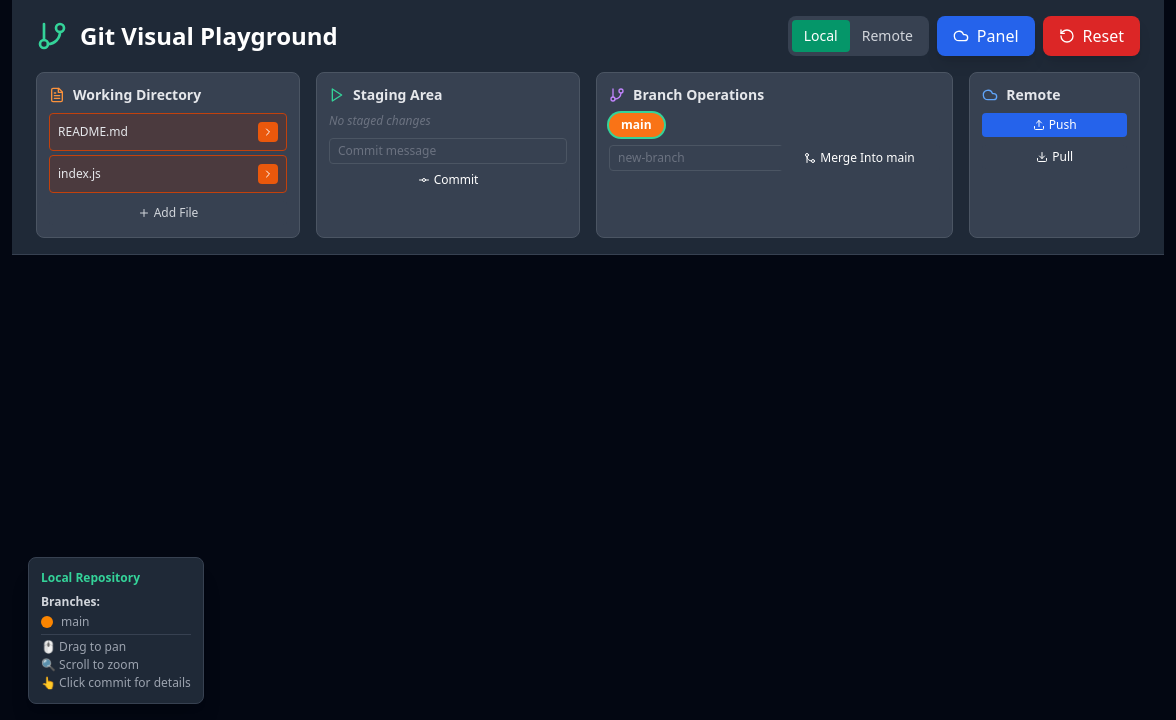
Test case: Git Visual Playground › Reset Functionality › T11.1: Reset clears all commits except initial
Note: Make a commit first
Click the button titled "Git Add" next to "README.md": (268,132) [258, 122, 278, 142]
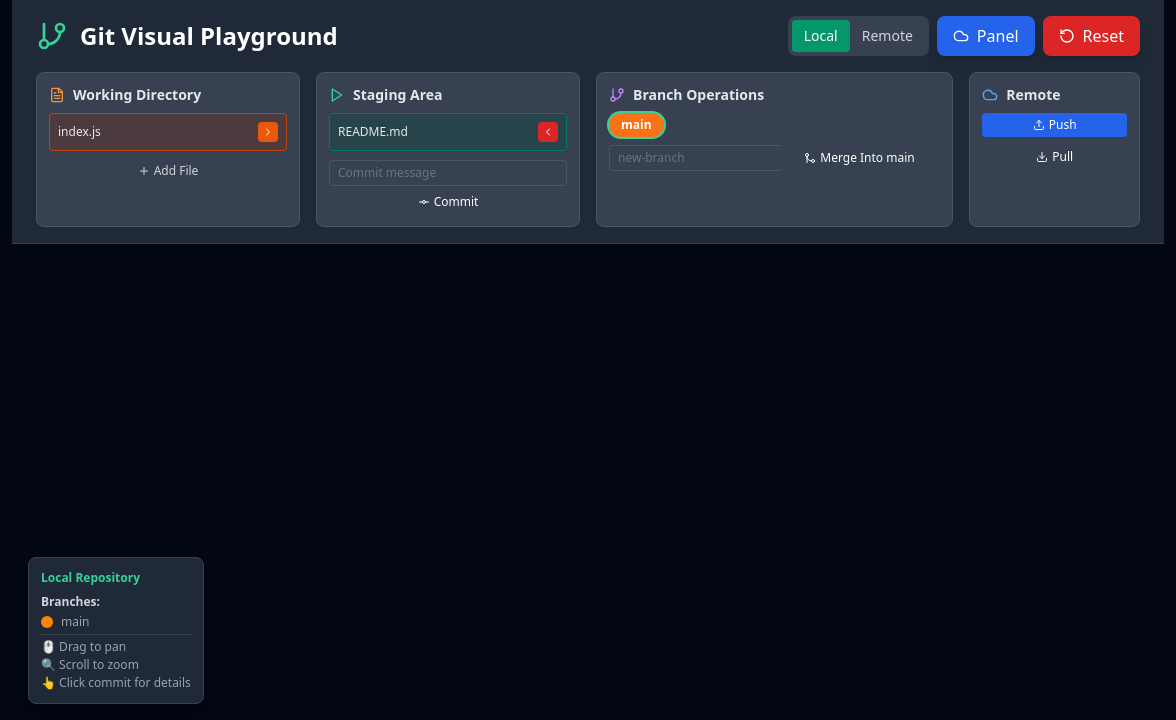
In the field with placeholder "Commit message": (448,173) [329, 160, 567, 186], type "Test commit"
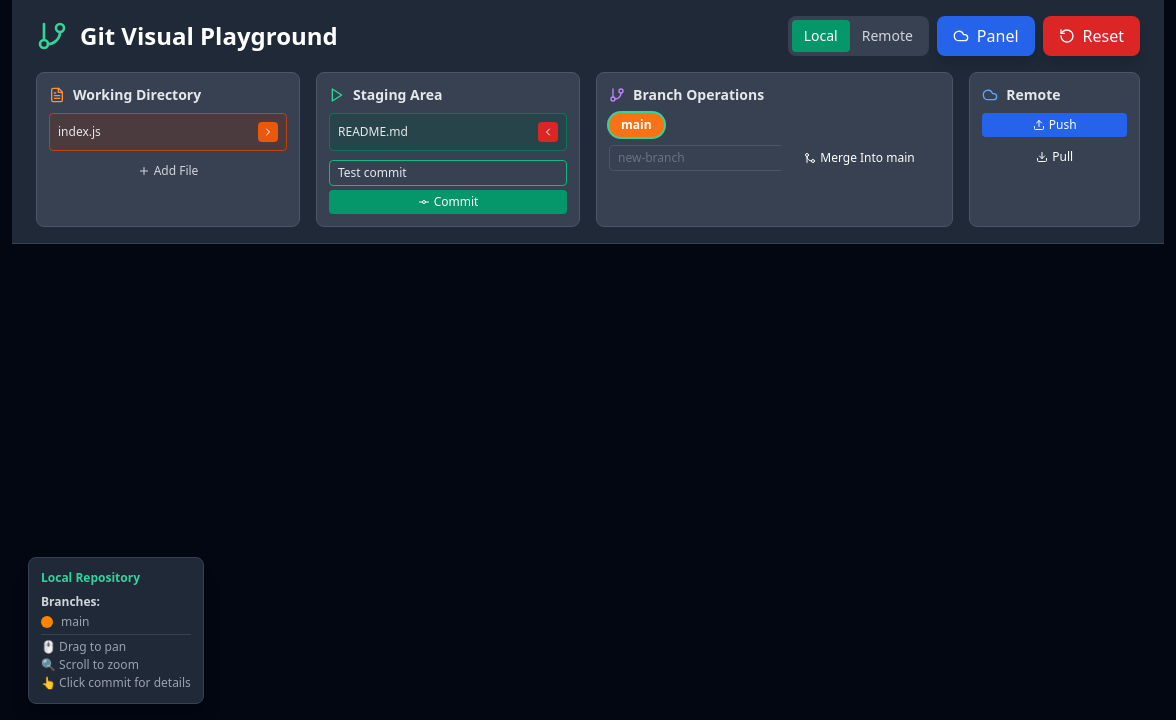
Click the button "Commit": (448,202) [329, 190, 567, 214]
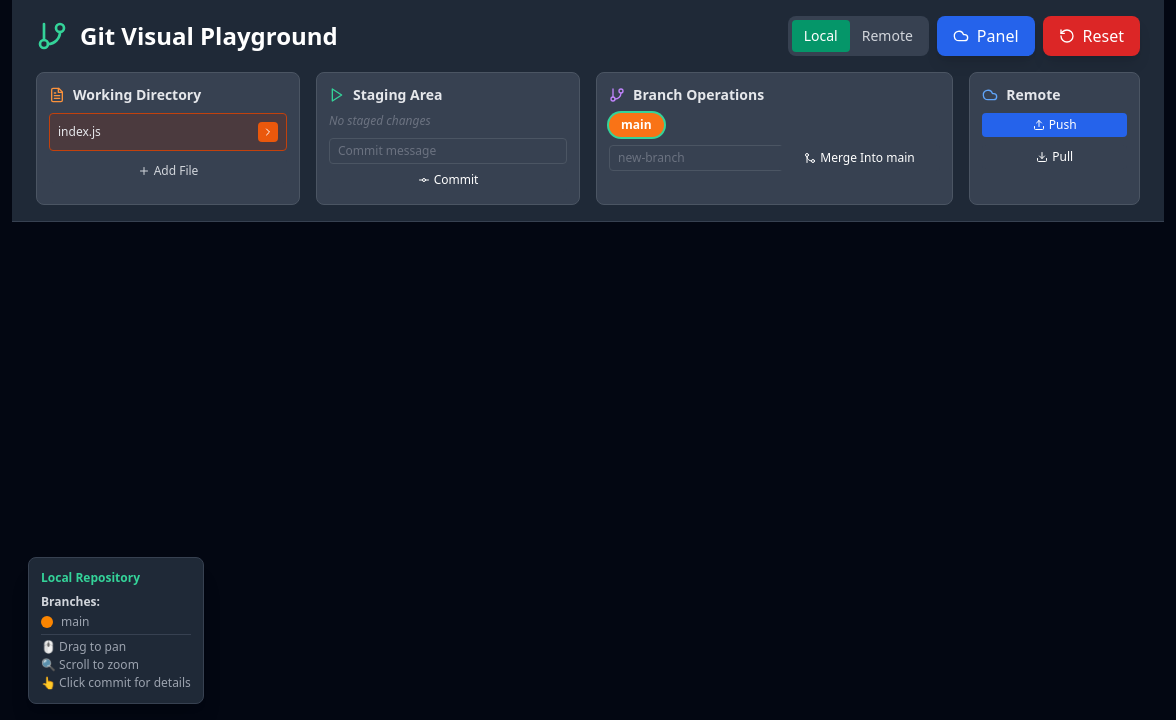
Click the button "Reset": (1091,36) [1042, 16, 1140, 56]
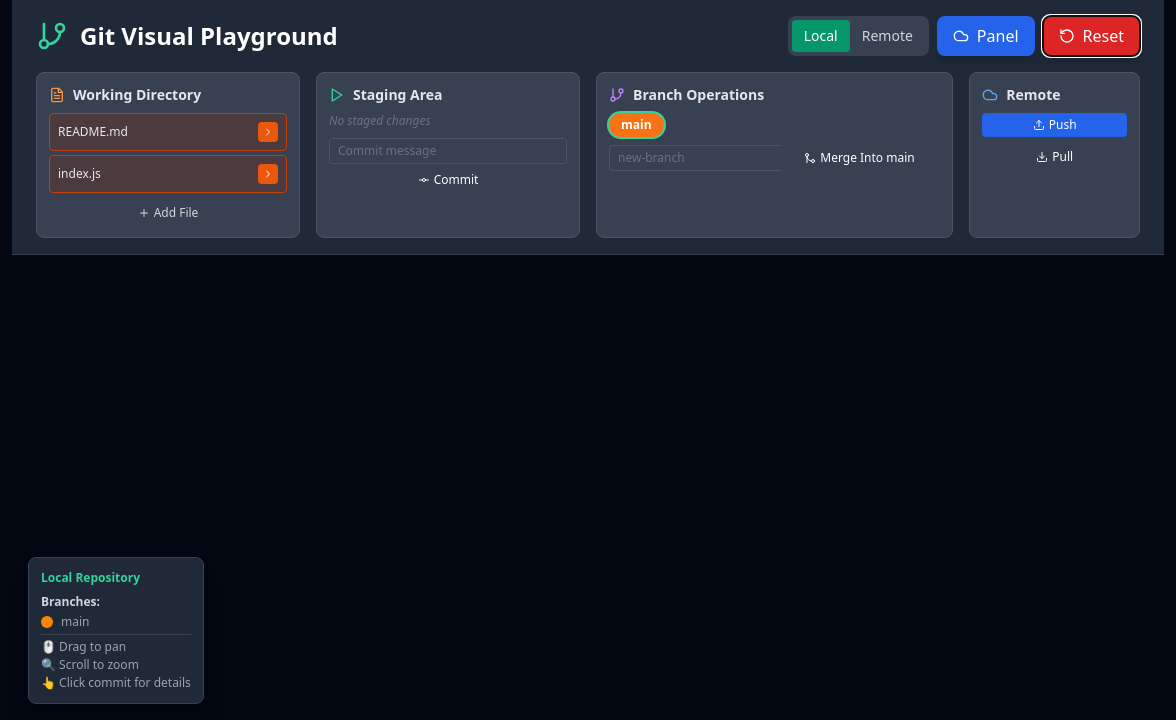
Expected: the text "index.js" is shown, [58, 166, 101, 182]
Expected: the text "README.md" is shown, [58, 124, 128, 140]
